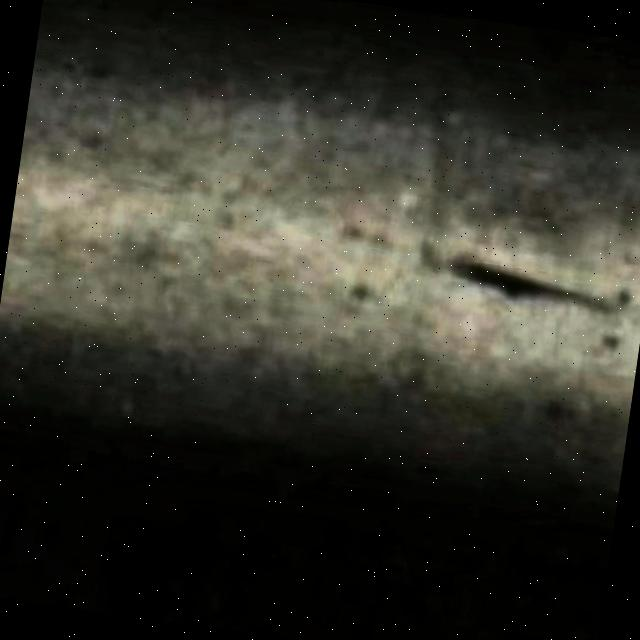Slag: (419, 231, 640, 390)
